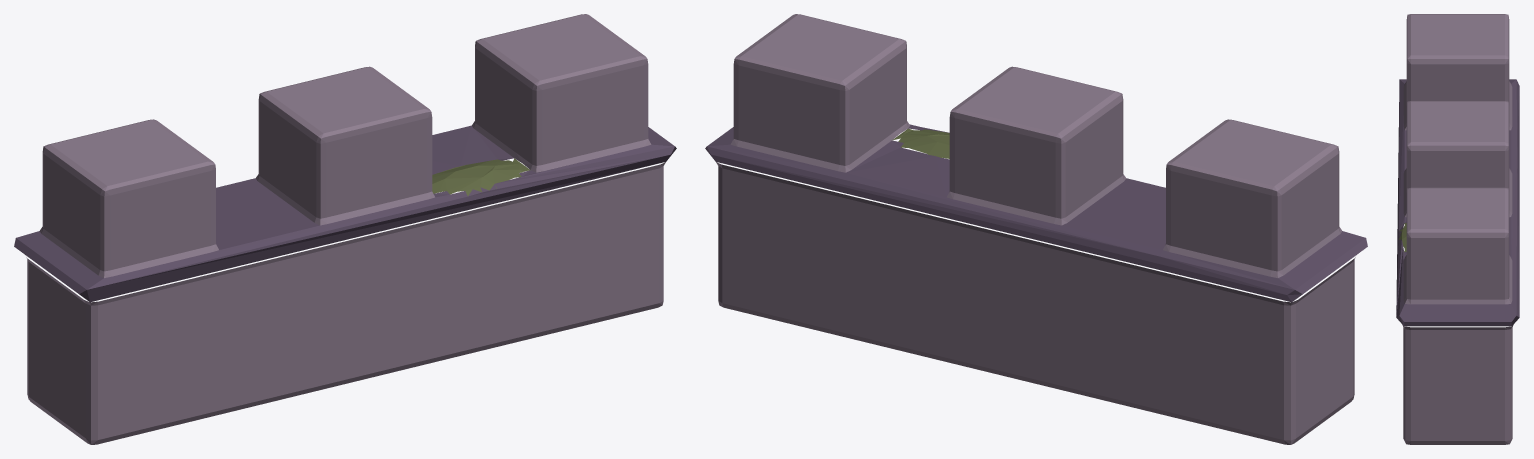
Rendered from parapet.glb.
3 renders of one model, left to right at view 1: azimuth 30°, elevation 25°; view 2: azimuth 150°, elevation 25°; view 3: azimuth 270°, elevation 25°, orthographic. The views are drawn at different scales.
Visible parts, largest first — view 1: parapet; view 2: parapet; view 3: parapet.
Part boxes in pixels (x1,y1,x2,y2): parapet: [14, 14, 676, 444]; parapet: [705, 14, 1367, 444]; parapet: [1396, 14, 1519, 444].
Size of the model in its own units: 3.32 by 1.35 by 0.72.
